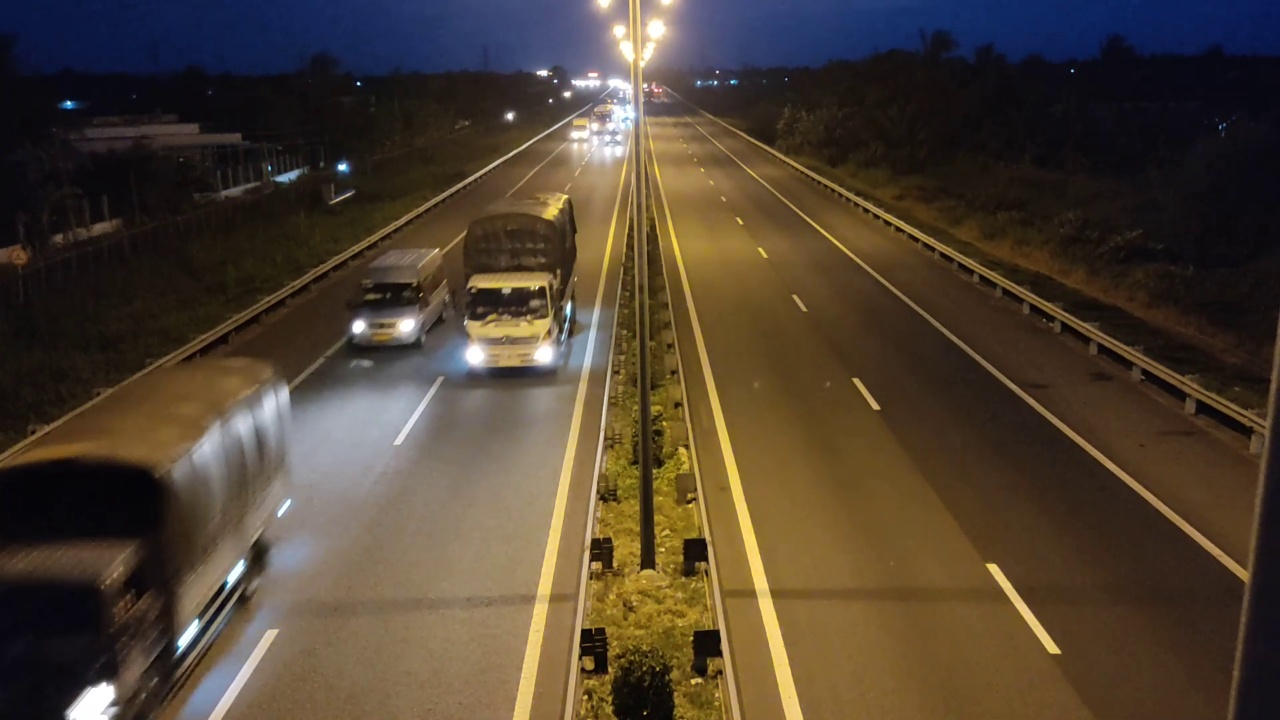car: (344, 235, 451, 355)
truck: (5, 355, 301, 715), (461, 191, 579, 378)
